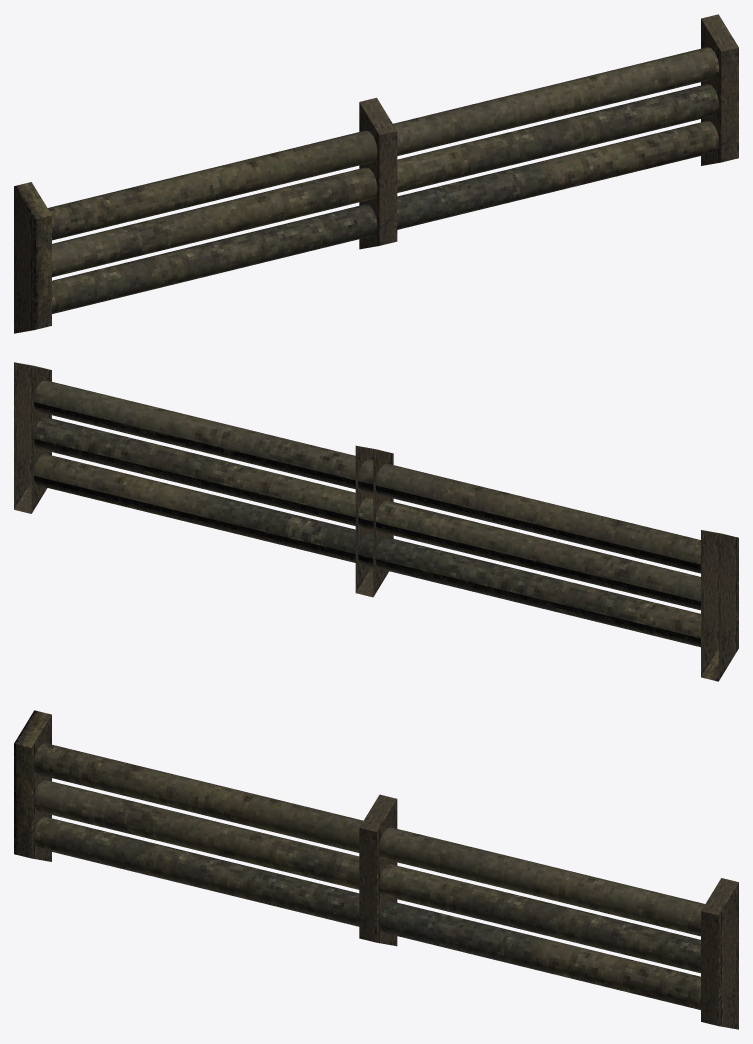
The model's file is pipes_hr_1_horizontal_middle_1.glb.
3 views of the same model, one above another, from view 1: azimuth 30°, elevation 25°; view 2: azimuth 150°, elevation 25°; view 3: azimuth 330°, elevation 25° (orthographic).
Visible parts, largest first — view 1: pipes_hr_1_horizontal_middle_1; view 2: pipes_hr_1_horizontal_middle_1; view 3: pipes_hr_1_horizontal_middle_1.
Boxes of the visible parts, <box> form: pipes_hr_1_horizontal_middle_1: <box>14,14,738,333</box>; pipes_hr_1_horizontal_middle_1: <box>14,362,738,681</box>; pipes_hr_1_horizontal_middle_1: <box>14,710,738,1029</box>.
Bounding box in the file's own units: 2 × 0.4 × 0.1.
Materials: 1 (1 with a texture image).
